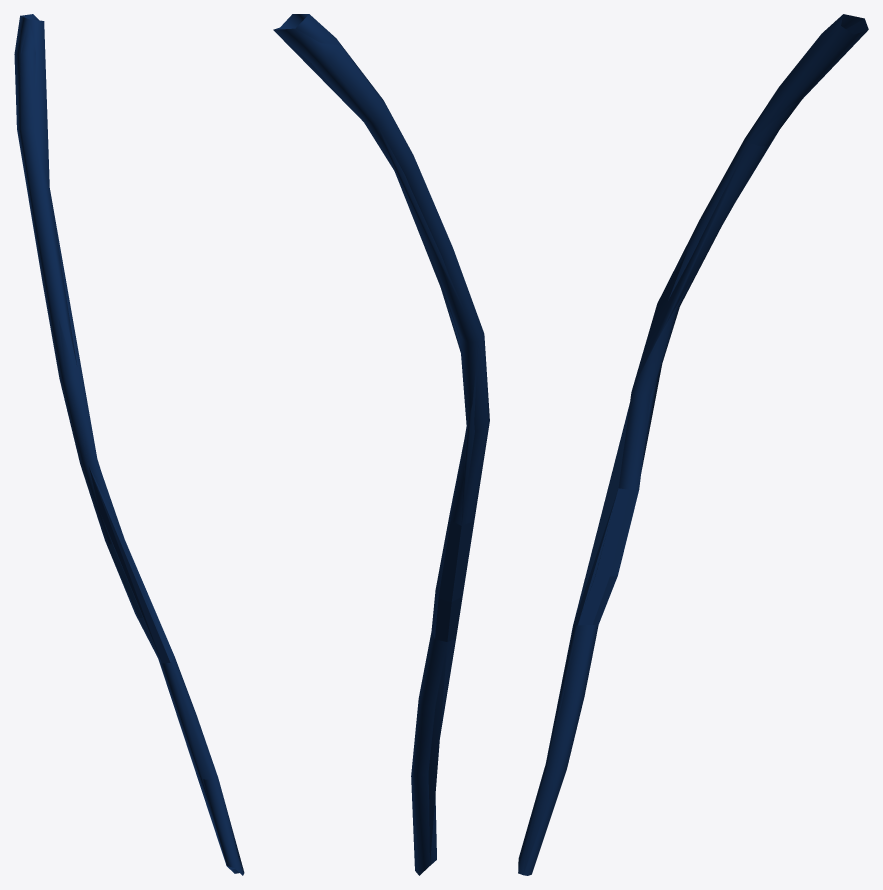
Rendered from L vena metatarseae plantares II.fbx.
The picture shows the model from 3 angles, left to right: view 1: azimuth 30°, elevation 25°; view 2: azimuth 150°, elevation 25°; view 3: azimuth 270°, elevation 25°; orthographic projection. The views are drawn at different scales.
Parts seen in each view (by area): view 1: L vena metatarseae plantares II, L vena metatarseae plantares II low; view 2: L vena metatarseae plantares II, L vena metatarseae plantares II low; view 3: L vena metatarseae plantares II, L vena metatarseae plantares II low.
Boxes of the visible parts, x1,y1,x2,y2 form: L vena metatarseae plantares II: (14, 14, 244, 875); L vena metatarseae plantares II low: (18, 14, 243, 870); L vena metatarseae plantares II: (273, 14, 489, 875); L vena metatarseae plantares II low: (274, 14, 489, 863); L vena metatarseae plantares II: (518, 14, 864, 875); L vena metatarseae plantares II low: (523, 14, 868, 874).
Size of the model in its own units: 1.75 by 11.09 by 4.26.
